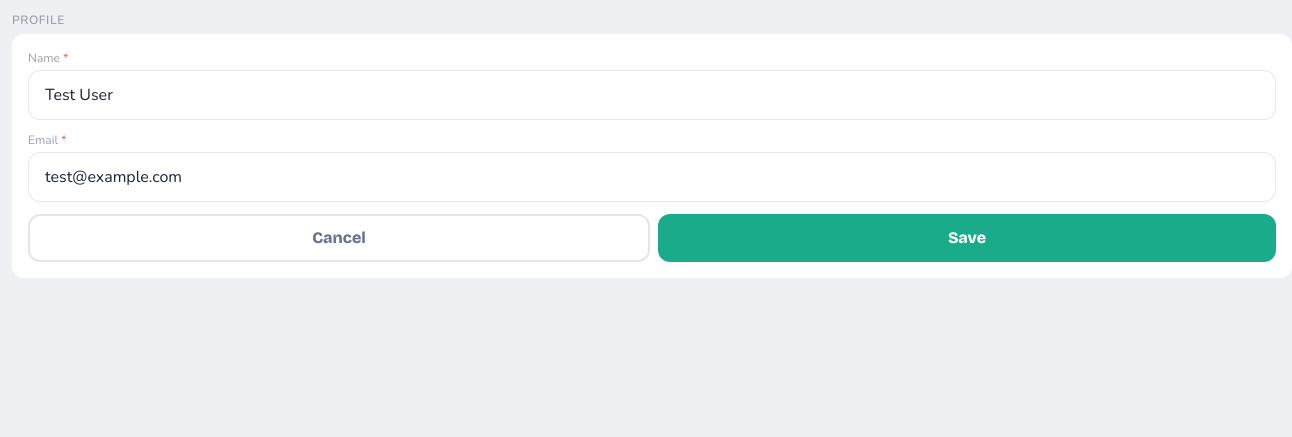
Test: ProfileSection › hides password field when email is reverted to original
The image size is (1292, 437).
Replace the text in the field showing "test@example.com" with "new@example.com" at (652, 177), box [28,152,1276,202]
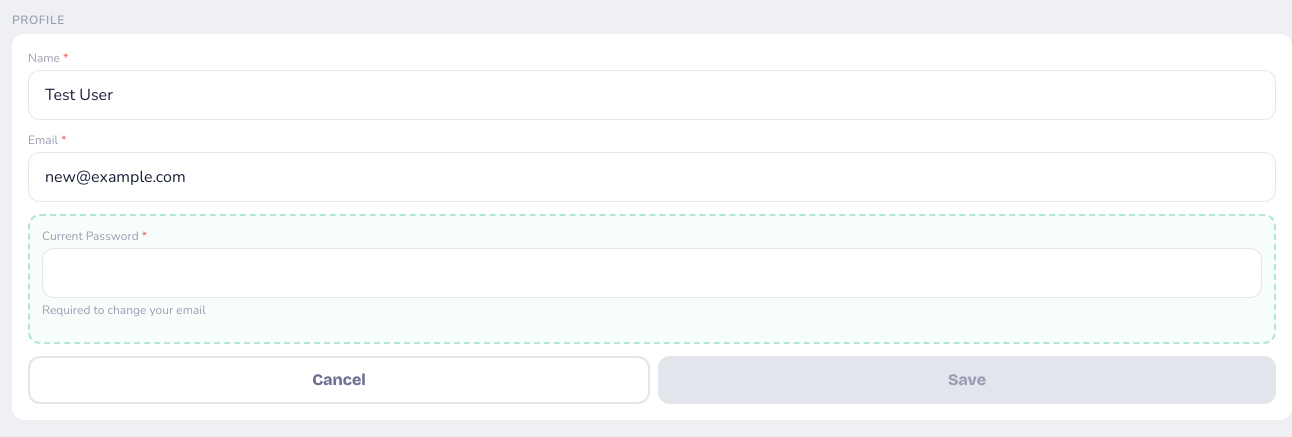
Replace the text in the field showing "test@example.com" with "test@example.com" at (652, 177), box [28,152,1276,202]
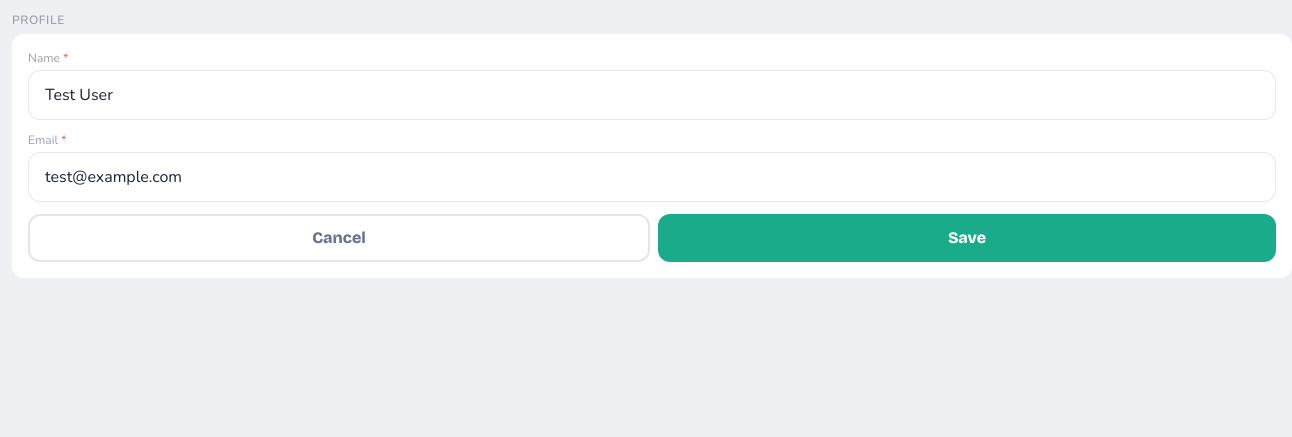
expect the text labelled "Current Password" is gone: met
